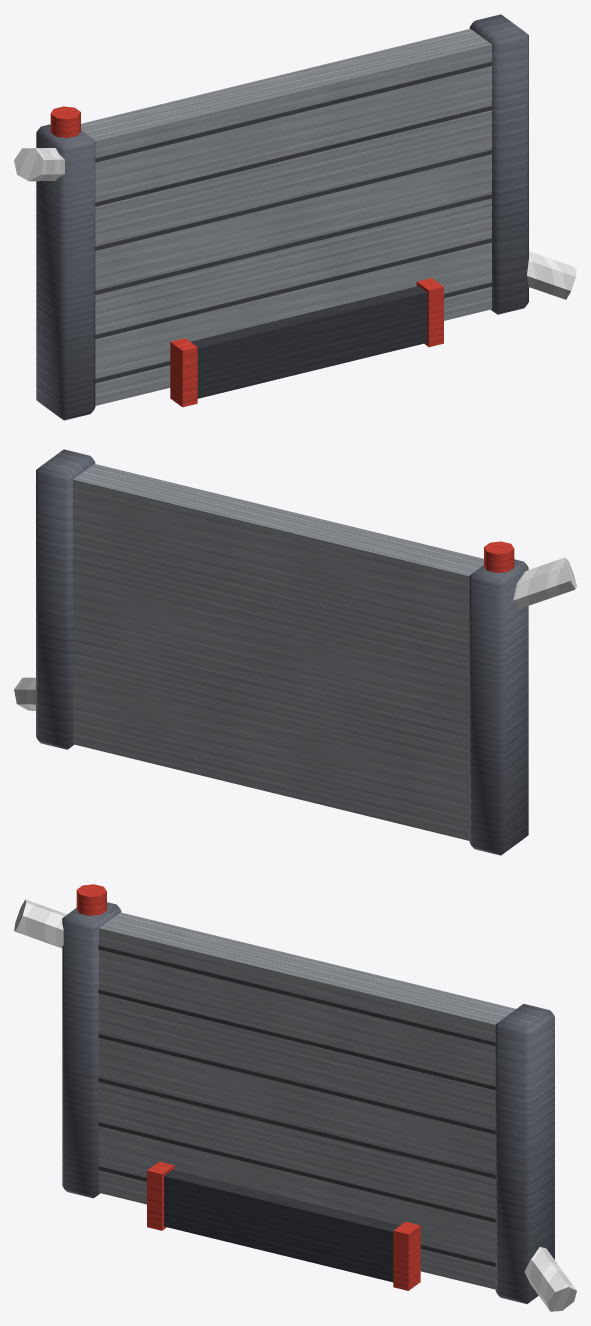
Rendered from radiador_n4.glb.
The picture shows the model from 3 angles, top to bottom: view 1: azimuth 30°, elevation 25°; view 2: azimuth 150°, elevation 25°; view 3: azimuth 330°, elevation 25°; orthographic projection.
Parts seen in each view (by area): view 1: radiador_n4; view 2: radiador_n4; view 3: radiador_n4.
Boxes of the visible parts, x1=… form: radiador_n4: x1=14, y1=14, x2=576, y2=420; radiador_n4: x1=14, y1=449, x2=576, y2=855; radiador_n4: x1=14, y1=884, x2=576, y2=1311.
Bounding box in the file's own units: 0.9281 × 0.47 × 0.1295.
Materials: 3 (3 with a texture image).
